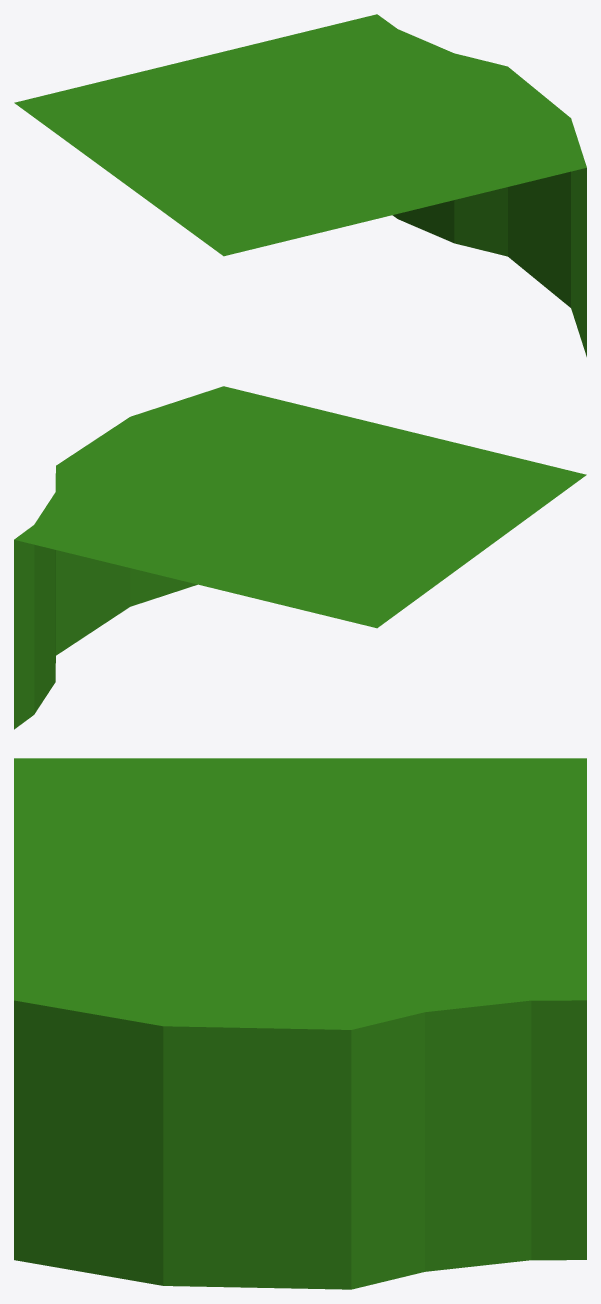
File: grass_middle_detail_1_tile.fbx
The picture shows the model from 3 angles, top to bottom: view 1: azimuth 30°, elevation 25°; view 2: azimuth 150°, elevation 25°; view 3: azimuth 270°, elevation 25°; orthographic projection. The views are drawn at different scales.
Visible parts, largest first — view 1: middle_detail_tile; view 2: middle_detail_tile; view 3: middle_detail_tile.
Part boxes in pixels (bbox=[...]): middle_detail_tile: bbox=[14, 14, 586, 356]; middle_detail_tile: bbox=[14, 386, 586, 729]; middle_detail_tile: bbox=[14, 758, 586, 1289].
Bounding box in the file's own units: 1122 × 500 × 1000.
